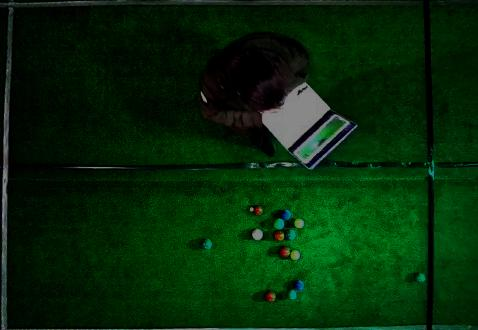blue: (293, 280, 304, 291), (280, 210, 291, 220)
green: (272, 218, 284, 230), (200, 239, 212, 250), (414, 273, 427, 283), (286, 290, 297, 300), (285, 230, 296, 240)
red: (264, 290, 276, 303), (279, 246, 290, 258), (252, 229, 263, 241), (274, 230, 285, 241), (254, 205, 263, 215)
vline: (423, 0, 477, 329), (0, 0, 17, 329)
white: (249, 207, 254, 212)
yellow: (294, 218, 304, 229), (290, 250, 300, 260)
